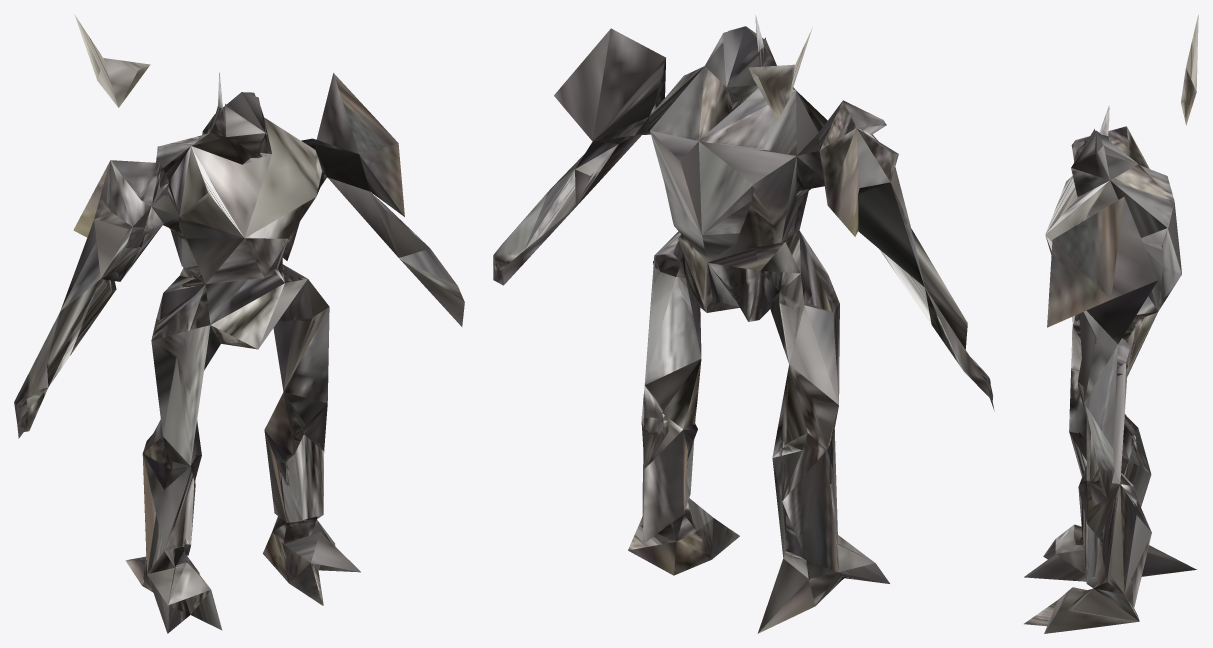
File: aegis_sentinel_lod2.glb
The picture shows the model from 3 angles, left to right: view 1: azimuth 30°, elevation 25°; view 2: azimuth 150°, elevation 25°; view 3: azimuth 270°, elevation 25°; orthographic projection. The views are drawn at different scales.
Visible parts, largest first — view 1: Mesh_0; view 2: Mesh_0; view 3: Mesh_0.
Boxes of the visible parts, x1,y1,x2,y2 form: Mesh_0: (14, 14, 464, 633); Mesh_0: (493, 15, 994, 633); Mesh_0: (1024, 14, 1198, 633).
Size of the model in its own units: 1.53 by 1.85 by 0.5472.
1 material, 1 textured.
